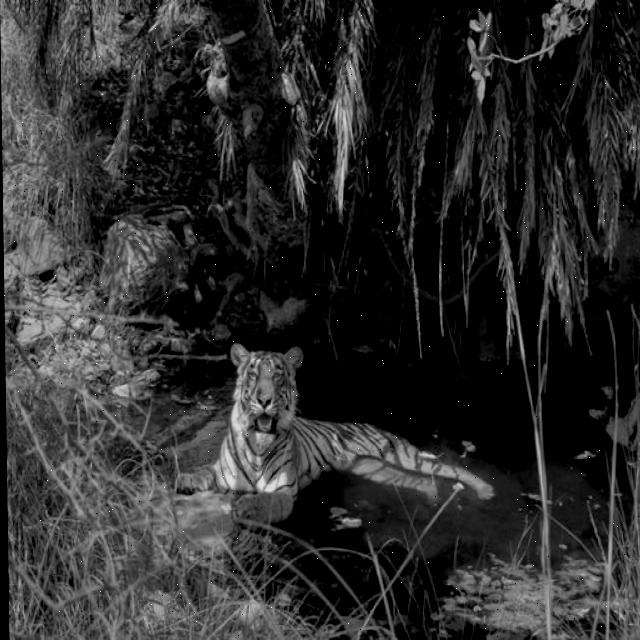Tiger: (170, 341, 495, 530)
